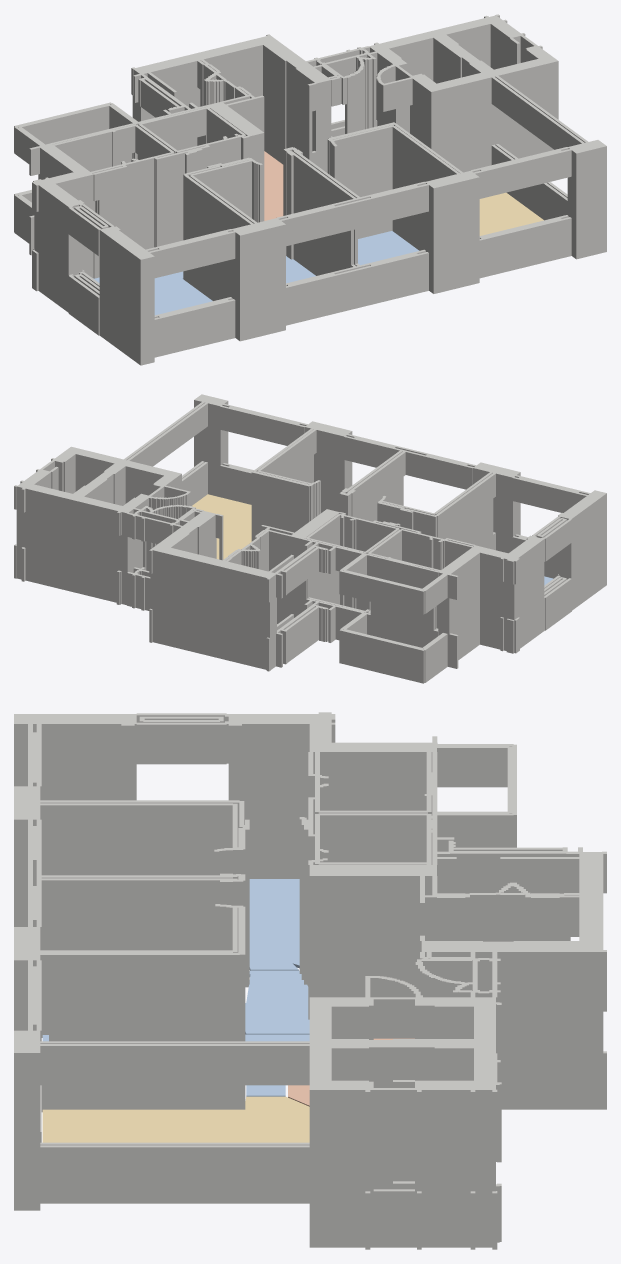
3 renders of one model, top to bottom at view 1: azimuth 30°, elevation 25°; view 2: azimuth 150°, elevation 25°; view 3: azimuth 270°, elevation 25°, orthographic. The views are drawn at different scales.
Visible parts, largest first — view 1: walls, room:living:10, room:bedroom:2, room:bedroom:6, room:kitchen:5; view 2: walls, room:living:10; view 3: walls, room:living:10, room:bedroom:2, room:bedroom:3, room:bedroom:6.
Part boxes in pixels (x1,y1,x2,y2): walls: [14, 14, 606, 365]; room:living:10: [479, 192, 543, 235]; room:bedroom:2: [93, 271, 212, 315]; room:bedroom:6: [358, 231, 419, 265]; room:kitchen:5: [264, 151, 283, 220]; walls: [14, 394, 606, 683]; room:living:10: [192, 494, 251, 559]; walls: [14, 712, 606, 1249]; room:living:10: [42, 1096, 309, 1142]; room:bedroom:2: [249, 879, 299, 970]; room:bedroom:3: [245, 970, 309, 1034]; room:bedroom:6: [42, 1034, 309, 1096].
Size of the model in its own units: 14.45 by 2.8 by 9.55.
